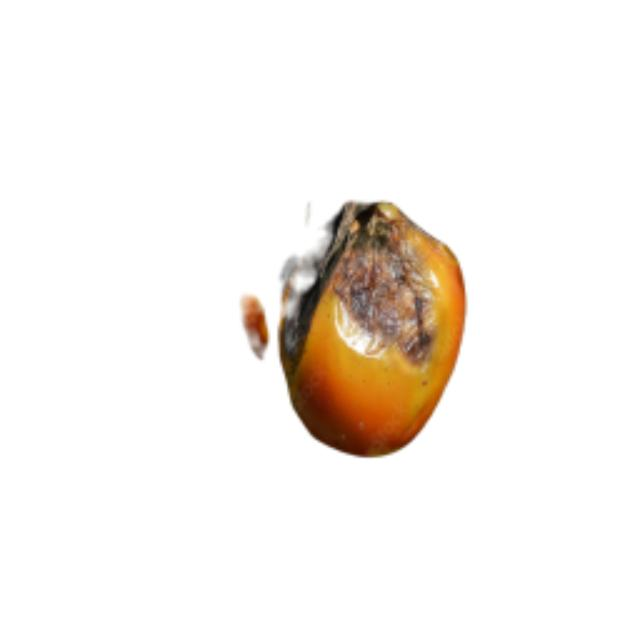defect: (276, 186, 471, 459)
